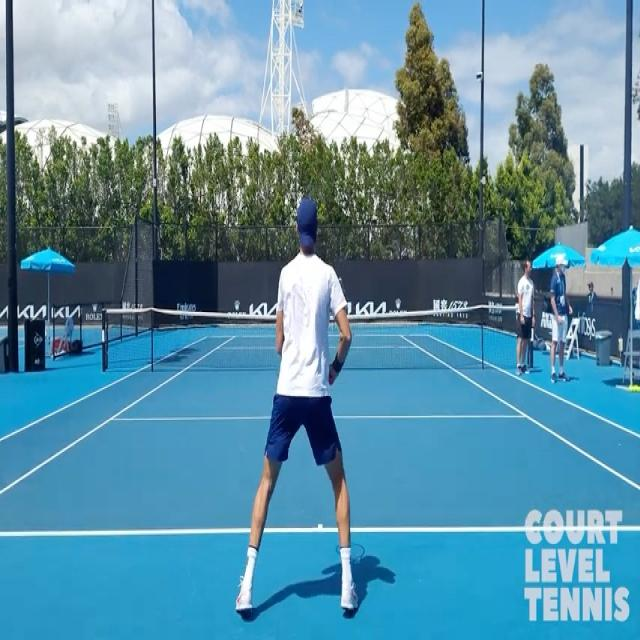ready-position: (242, 189, 368, 607)
